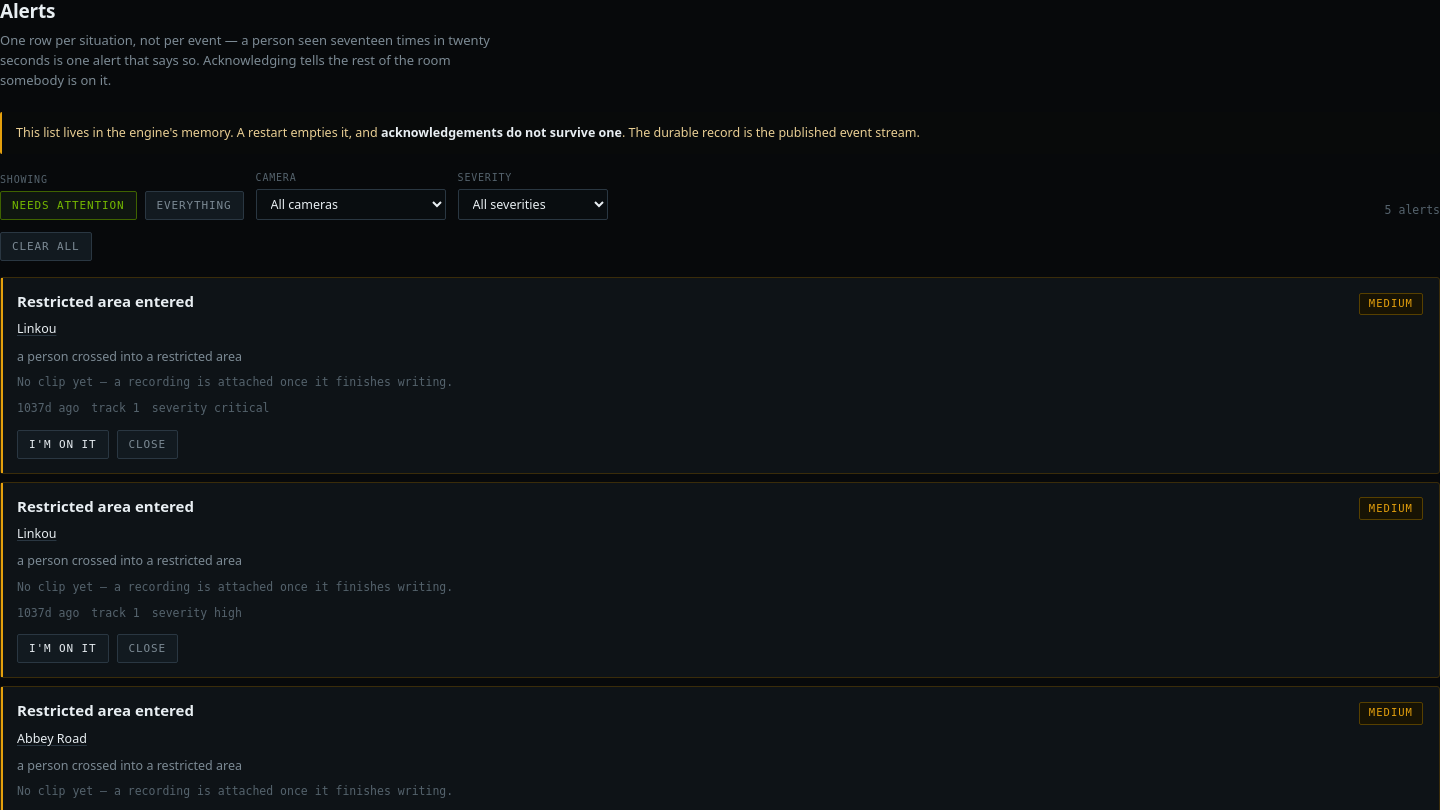
Test: AlertsPage filters, narrowing the list › says how much of the list it is showing once anything is narrowed
Select "Bourbon Street — 1" in the dropdown labelled "Camera" at (351, 204), box [256, 189, 446, 220]
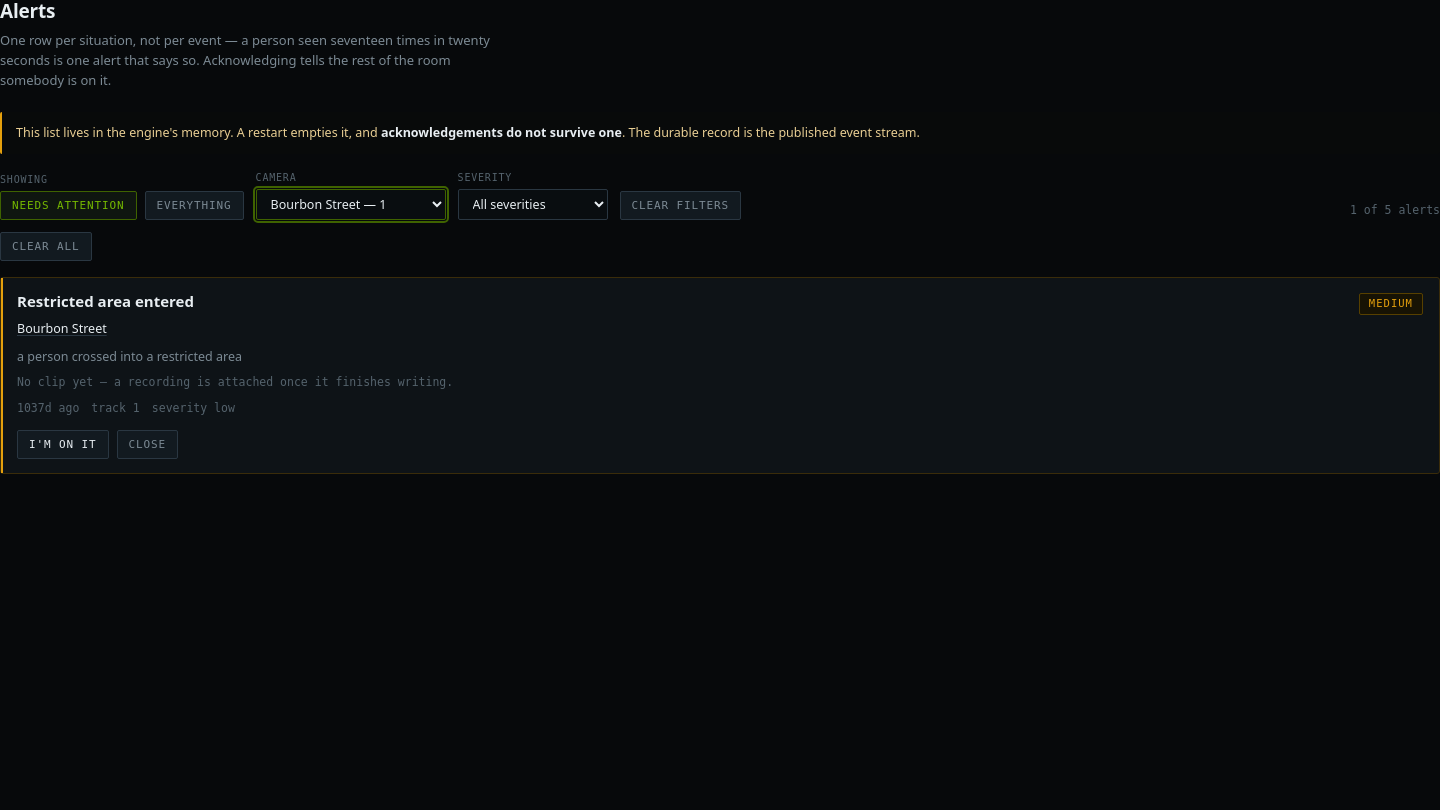
Result: the text with test id "alert-filter-summary" reads "1 of 5 alerts" at [1350, 203, 1439, 217]
